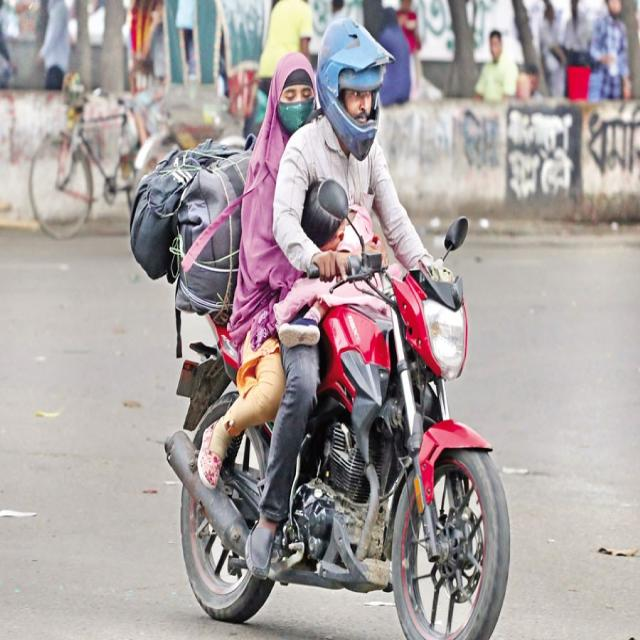bike: (166, 256, 526, 610)
